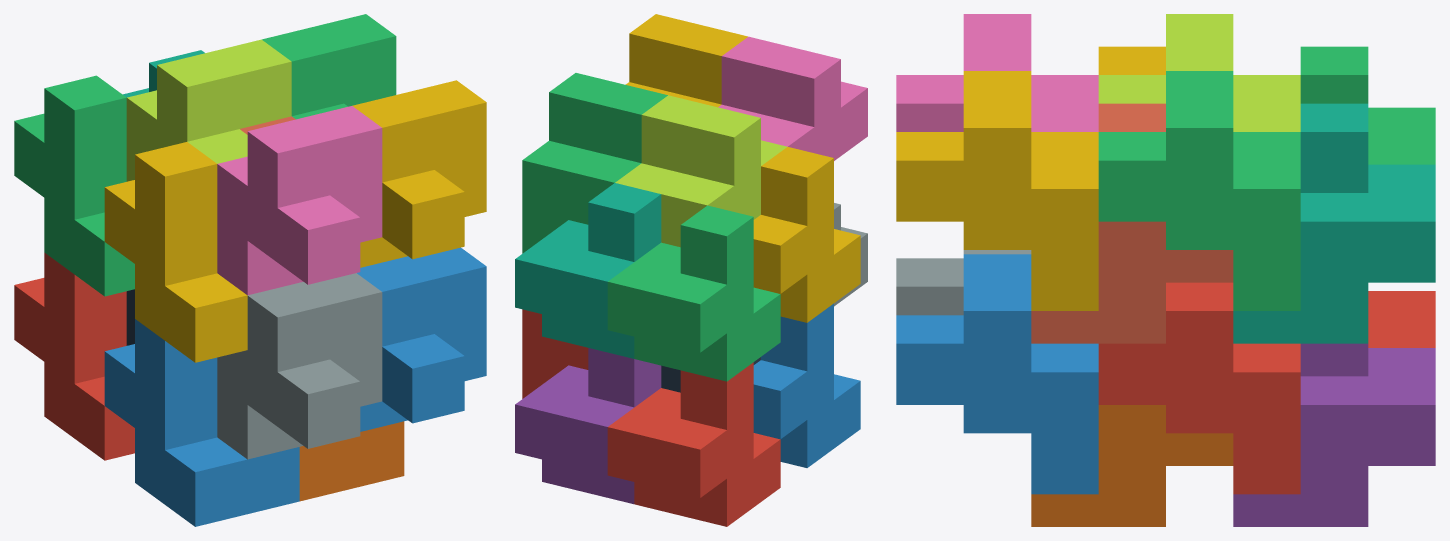
Rendered from tiling.obj.
3 renders of one model, left to right at view 1: azimuth 30°, elevation 25°; view 2: azimuth 150°, elevation 25°; view 3: azimuth 270°, elevation 25°, orthographic. The views are drawn at different scales.
Parts seen in each view (by area): view 1: copy_2_domain_4, copy_2_domain_2, copy_1_domain_2, copy_1_domain_4, copy_2_domain_8, copy_2_domain_6, copy_1_domain_3, copy_1_domain_1, copy_2_domain_3, copy_2_domain_7, copy_1_domain_6, copy_1_domain_7; view 2: copy_1_domain_3, copy_1_domain_1, copy_1_domain_7, copy_2_domain_7, copy_2_domain_3, copy_1_domain_4, copy_1_domain_5, copy_2_domain_4, copy_1_domain_2, copy_2_domain_8, copy_2_domain_5, copy_2_domain_2 (+1 smaller); view 3: copy_2_domain_8, copy_2_domain_7, copy_2_domain_6, copy_1_domain_7, copy_2_domain_5, copy_1_domain_5, copy_1_domain_8, copy_1_domain_6, copy_2_domain_4, copy_2_domain_3, copy_1_domain_3, copy_2_domain_2 (+2 smaller).
Part boxes in pixels (x1,y1,x2,y2): copy_2_domain_4: (217, 106, 382, 295); copy_2_domain_2: (217, 273, 382, 459); copy_1_domain_2: (104, 319, 299, 526); copy_1_domain_4: (104, 142, 247, 362); copy_2_domain_8: (352, 80, 486, 267); copy_2_domain_6: (357, 247, 486, 431); copy_1_domain_3: (14, 75, 134, 296); copy_1_domain_1: (14, 252, 134, 460); copy_2_domain_3: (126, 39, 291, 181); copy_2_domain_7: (262, 14, 396, 119); copy_1_domain_6: (299, 421, 404, 501); copy_1_domain_7: (123, 50, 204, 97); copy_1_domain_3: (607, 205, 780, 381); copy_1_domain_1: (607, 362, 780, 526); copy_1_domain_7: (515, 183, 661, 358); copy_2_domain_7: (522, 73, 667, 253); copy_2_domain_3: (615, 95, 787, 247); copy_1_domain_4: (753, 147, 860, 322); copy_1_domain_5: (515, 348, 661, 504); copy_2_domain_4: (718, 36, 867, 160); copy_1_domain_2: (753, 303, 860, 467); copy_2_domain_8: (625, 14, 747, 107); copy_2_domain_5: (522, 309, 588, 398); copy_2_domain_2: (834, 203, 867, 306); copy_2_domain_8: (896, 71, 1098, 310); copy_2_domain_7: (1098, 71, 1300, 310); copy_2_domain_6: (896, 254, 1098, 494); copy_1_domain_7: (1233, 103, 1435, 343); copy_2_domain_5: (1098, 282, 1300, 494); copy_1_domain_5: (1233, 343, 1435, 526); copy_1_domain_8: (1031, 103, 1233, 343); copy_1_domain_6: (1031, 405, 1233, 526); copy_2_domain_4: (896, 14, 1098, 131); copy_2_domain_3: (1098, 14, 1300, 131); copy_1_domain_3: (1300, 46, 1435, 164); copy_2_domain_2: (896, 250, 1031, 315).
Size of the model in its own units: 5 by 7 by 8.
